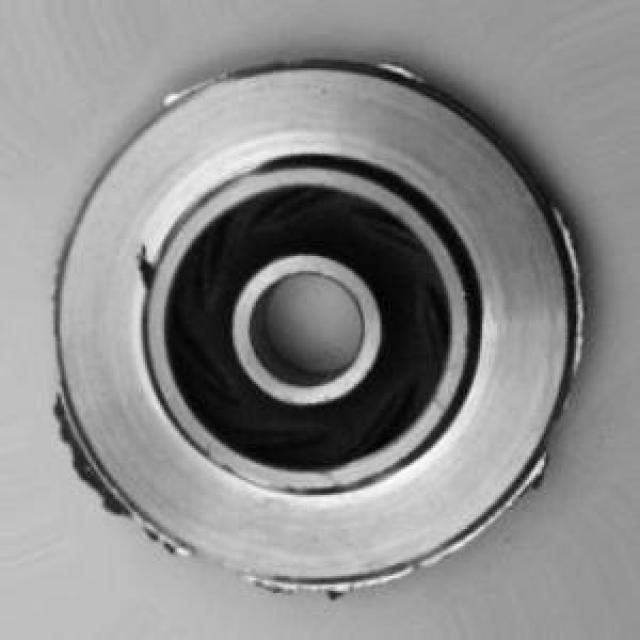Defect: (50, 409, 124, 509)
